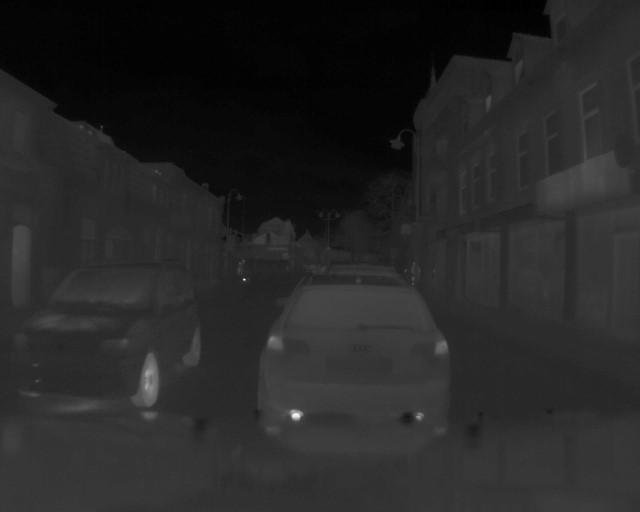car: (255, 279, 456, 432), (10, 260, 206, 410)
person: (408, 255, 427, 286)
